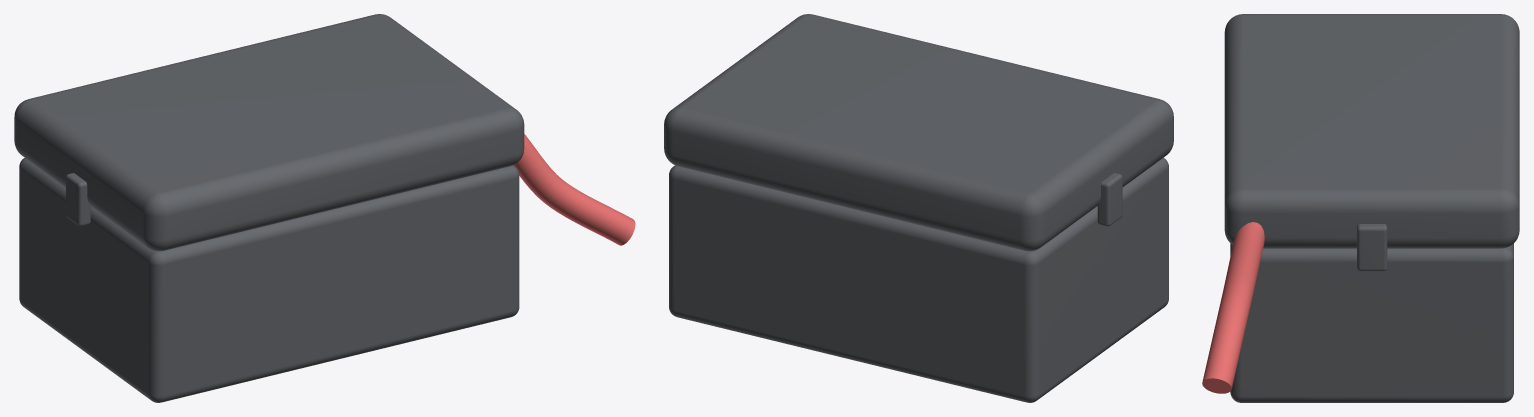
File: fuse_relay_box.glb
3 renders of one model, left to right at view 1: azimuth 30°, elevation 25°; view 2: azimuth 150°, elevation 25°; view 3: azimuth 270°, elevation 25°, orthographic. The views are drawn at different scales.
Visible parts, largest first — view 1: lid, base, main_feed; view 2: lid, base; view 3: lid, base, main_feed.
Part boxes in pixels (bbox=[...]): lid: bbox=[14, 14, 524, 251]; base: bbox=[19, 158, 519, 402]; main_feed: bbox=[513, 134, 635, 245]; lid: bbox=[664, 14, 1173, 251]; base: bbox=[669, 157, 1168, 402]; lid: bbox=[1224, 14, 1519, 271]; base: bbox=[1230, 243, 1513, 402]; main_feed: bbox=[1202, 222, 1264, 393].
Bounding box in the file's own units: 303 × 124 × 168.
